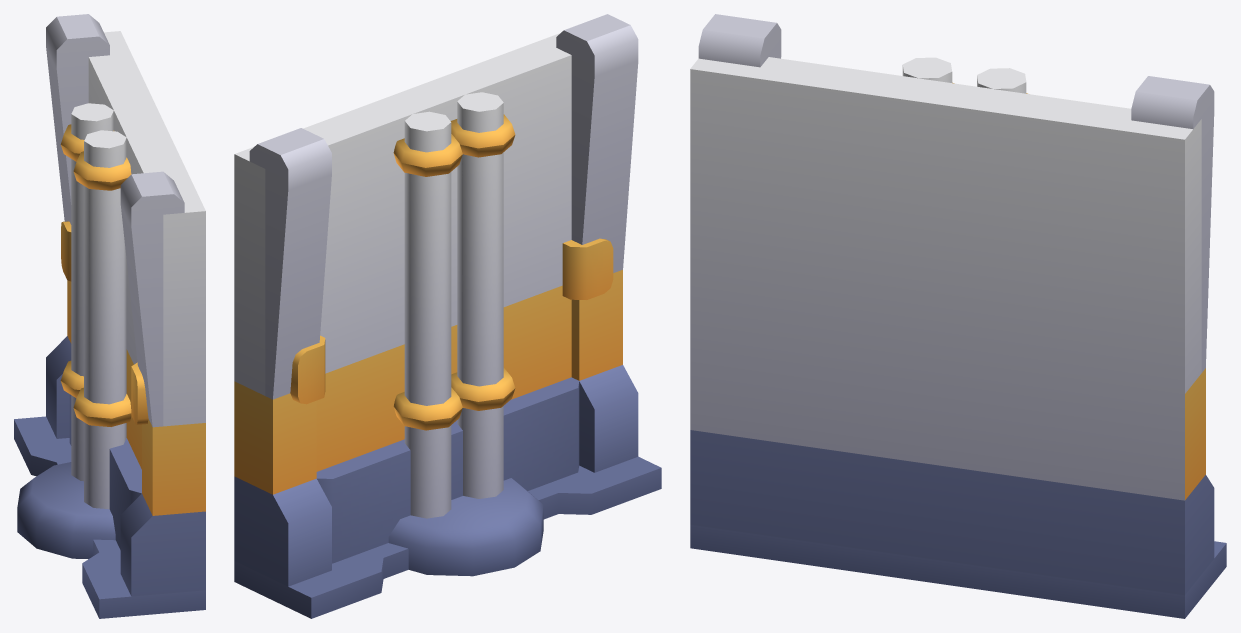
File: template-wall-detail-a.009_lev4.glb
3 views of the same model, side by side, from view 1: azimuth 30°, elevation 25°; view 2: azimuth 150°, elevation 25°; view 3: azimuth 270°, elevation 25° (orthographic). The views are drawn at different scales.
Visible parts, largest first — view 1: template-wall-detail-a.009_lev4; view 2: template-wall-detail-a.009_lev4; view 3: template-wall-detail-a.009_lev4.
Boxes of the visible parts, x1,y1,x2,y2 form: template-wall-detail-a.009_lev4: (14, 14, 205, 618); template-wall-detail-a.009_lev4: (234, 14, 661, 618); template-wall-detail-a.009_lev4: (690, 14, 1226, 618).
Bounding box in the file's own units: 6.69 × 12.75 × 12.33.
1 material, 1 textured.
